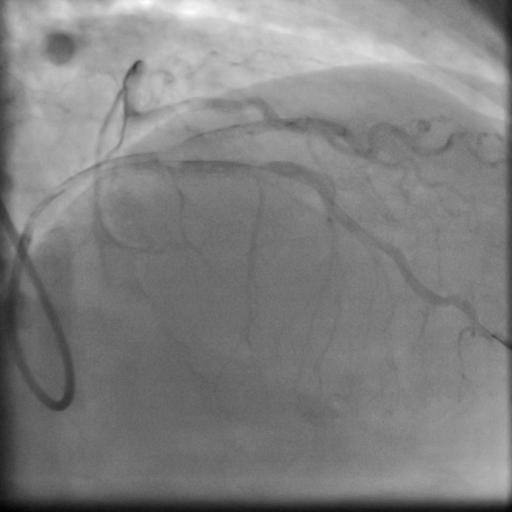Stenosis: (242, 156, 272, 176)
